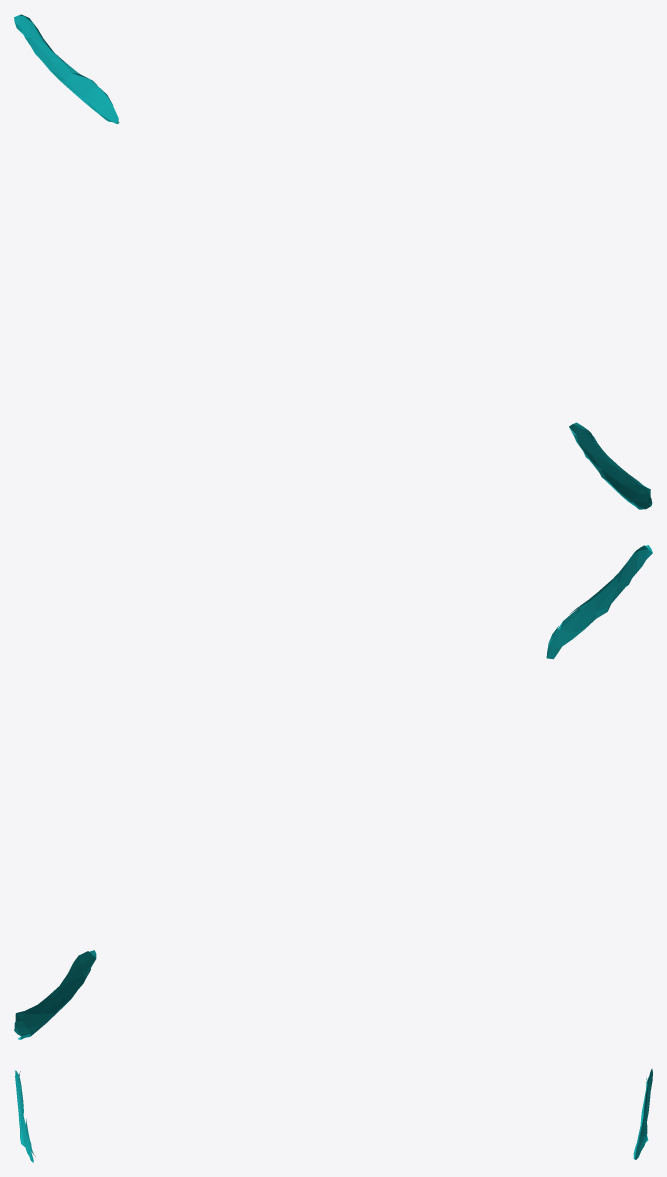
3 views of the same model, one above another, from view 1: azimuth 30°, elevation 25°; view 2: azimuth 150°, elevation 25°; view 3: azimuth 270°, elevation 25° (orthographic). The views are drawn at different scales.
Visible parts, largest first — view 1: 243.obj; view 2: 243.obj; view 3: 243.obj.
Boxes of the visible parts, bbox=[...] form: 243.obj: bbox=[14, 14, 652, 509]; 243.obj: bbox=[14, 545, 652, 1039]; 243.obj: bbox=[14, 1069, 652, 1162].
Bounding box in the file's own units: 765 × 943 × 7727.
